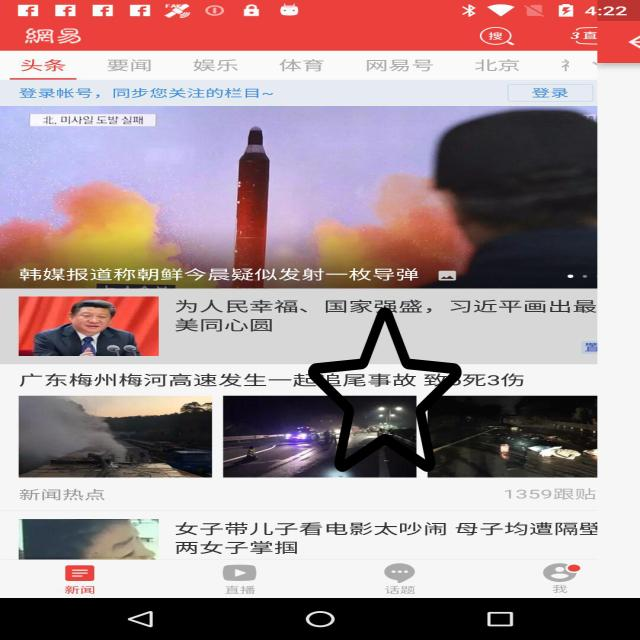forced continuity: (308, 304, 462, 475)
